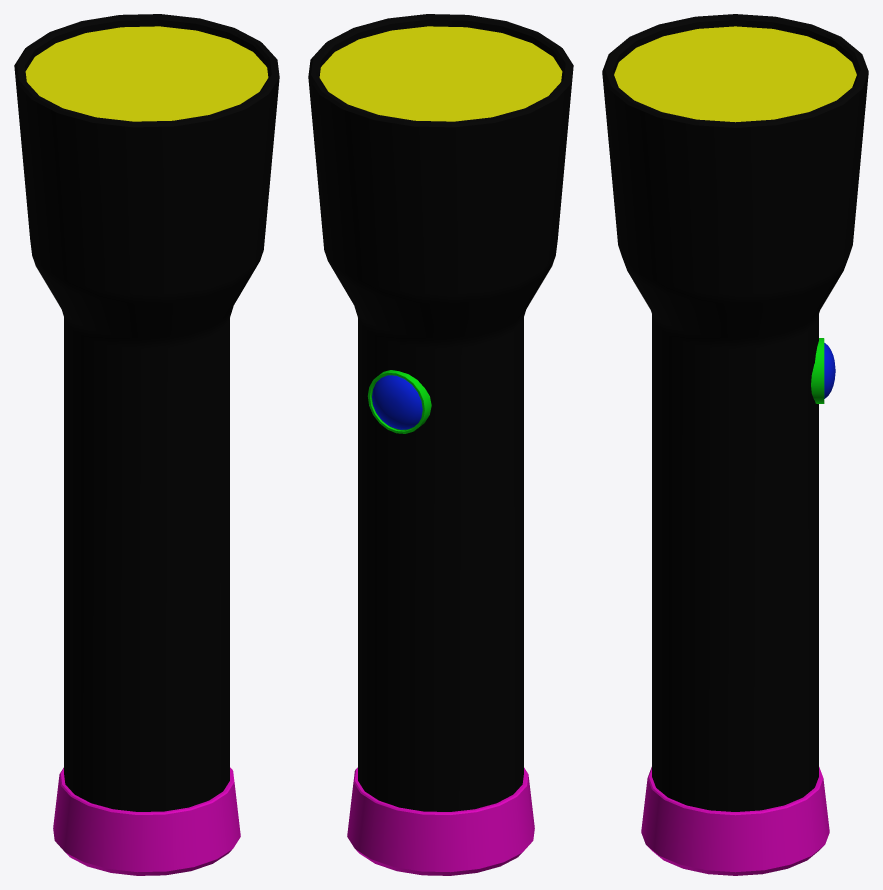
The model's file is ficklampa.fbx.
3 views of the same model, side by side, from view 1: azimuth 30°, elevation 25°; view 2: azimuth 150°, elevation 25°; view 3: azimuth 270°, elevation 25° (orthographic).
Parts seen in each view (by area): view 1: flashlight1; view 2: flashlight1; view 3: flashlight1.
Part boxes in pixels (x1,y1,x2,y2): flashlight1: (14,14,279,875); flashlight1: (308,14,573,875); flashlight1: (602,14,868,875).
Size of the model in its own units: 10.17 by 32.36 by 10.17.
